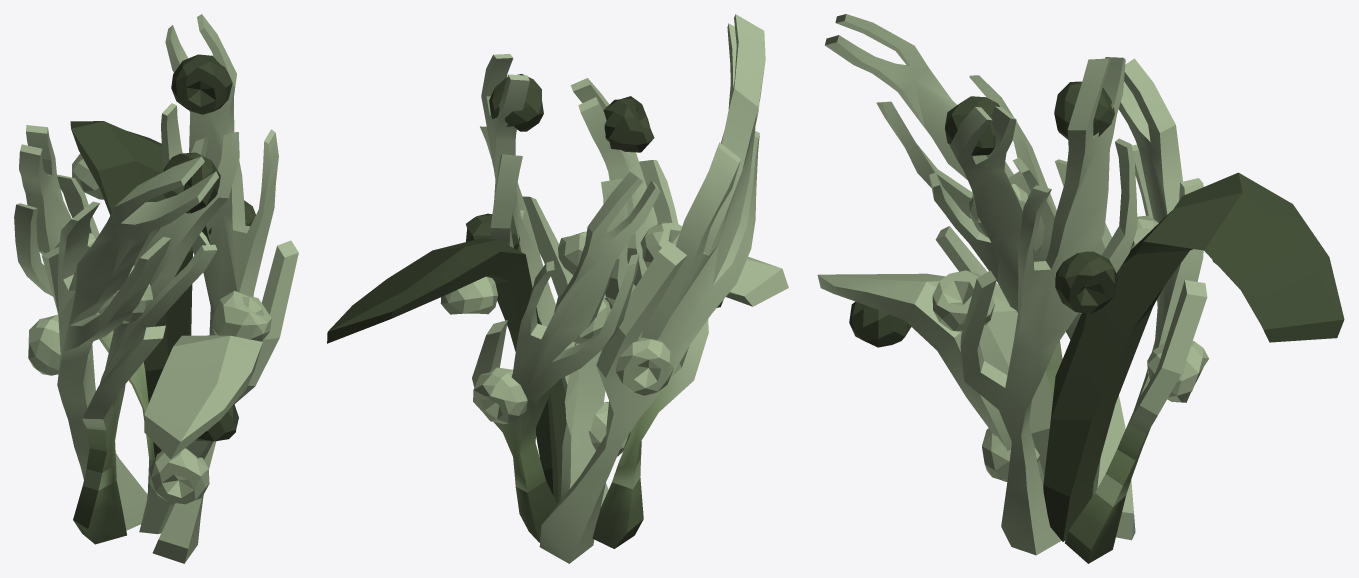
Rendered from EA_Swamp_LeafFruits_01b.glb.
3 views of the same model, side by side, from view 1: azimuth 30°, elevation 25°; view 2: azimuth 150°, elevation 25°; view 3: azimuth 270°, elevation 25° (orthographic). The views are drawn at different scales.
Parts seen in each view (by area): view 1: EA_Swamp_LeafFruits_01b; view 2: EA_Swamp_LeafFruits_01b; view 3: EA_Swamp_LeafFruits_01b.
Boxes of the visible parts, x1,y1,x2,y2 form: EA_Swamp_LeafFruits_01b: (14,14,298,563); EA_Swamp_LeafFruits_01b: (327,14,788,563); EA_Swamp_LeafFruits_01b: (817,14,1344,563).
Size of the model in its own units: 0.9012 by 1.62 by 1.48.
1 material, 1 textured.
